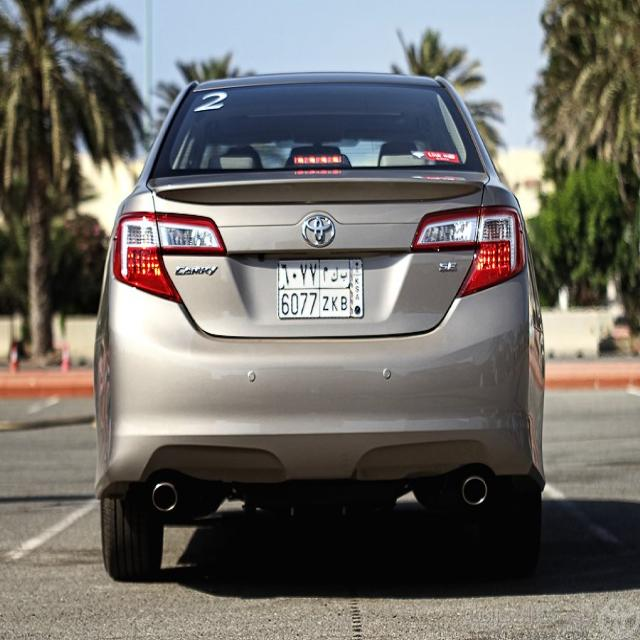license_plate: (275, 254, 366, 322)
